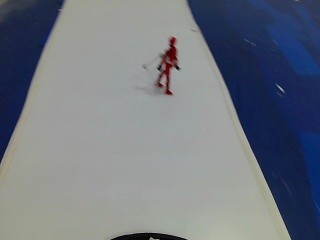pedestrian: (147, 24, 186, 103)
